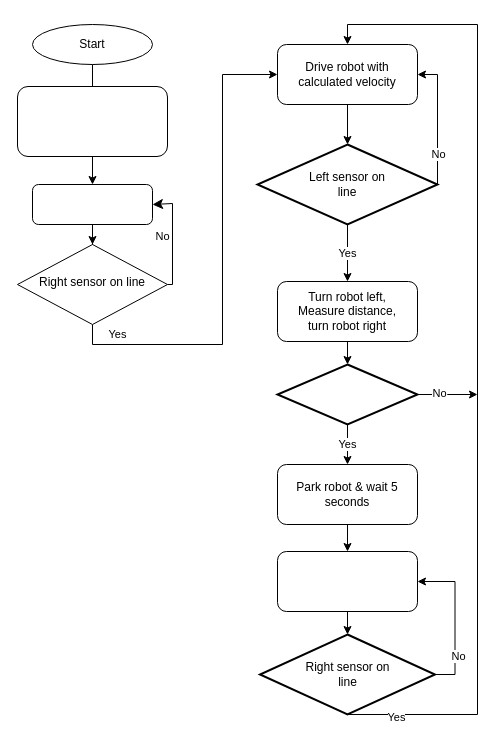
Some shapes in this 503 by 741 pixel diagram are drawn without their labels. Each missing label, with the centre of its shape:
Calibrate left and right color Set base velocity: [92,121]
Distance > 20 cm: [347,394]
Drive forward: [92,204]
Drive robot backwards: [347,581]
